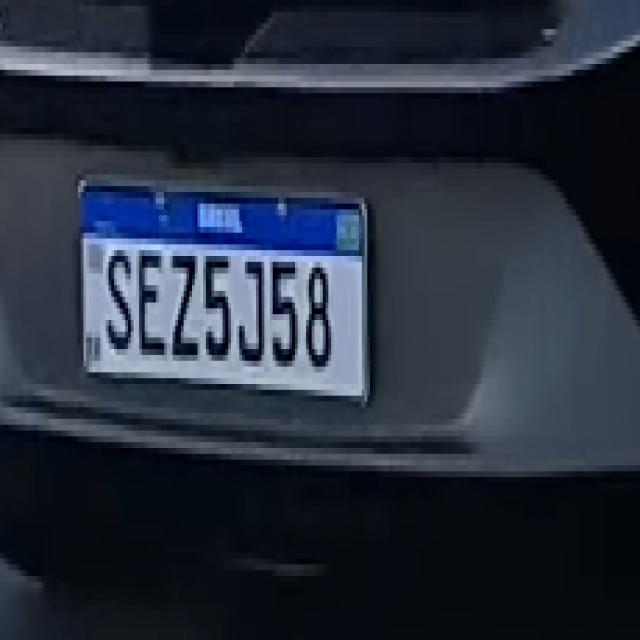Placa_mercosul_carro: (77, 180, 372, 392)
